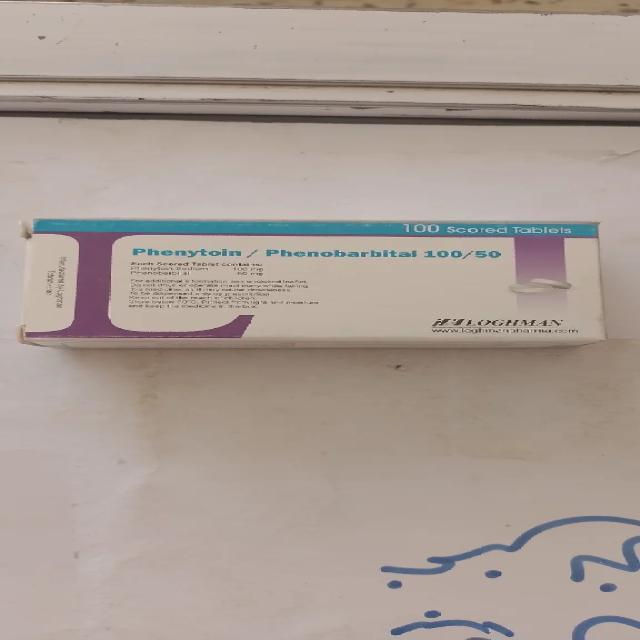drug-name: (131, 244, 502, 262)
